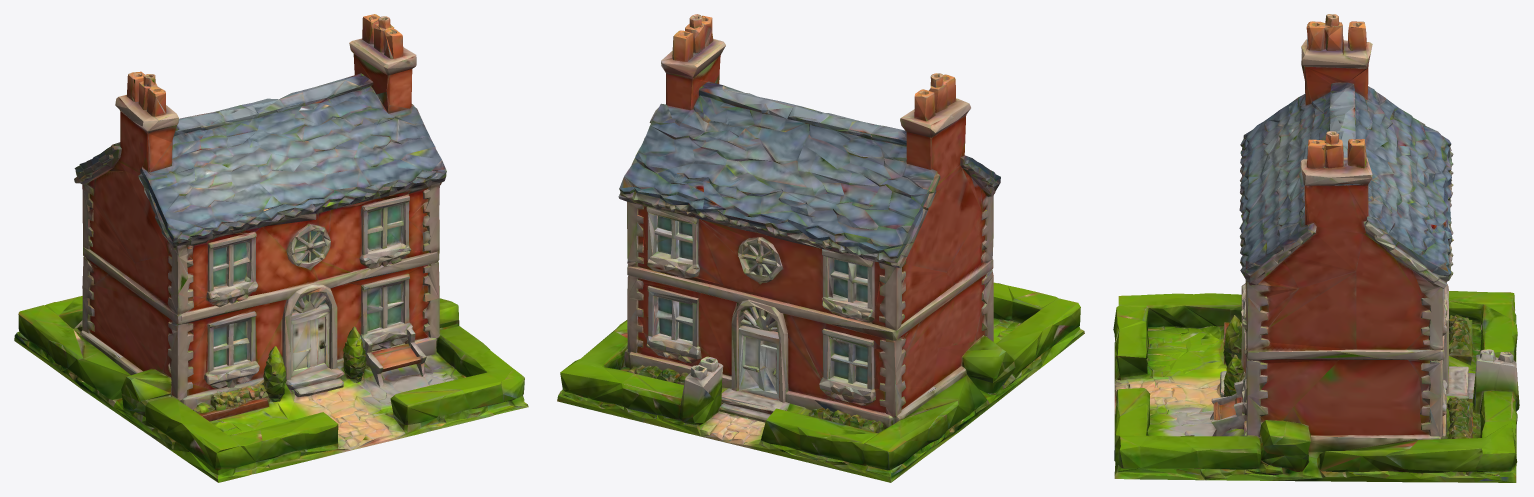
The model's file is town_townhouse_garden_3.glb.
3 renders of one model, left to right at view 1: azimuth 30°, elevation 25°; view 2: azimuth 150°, elevation 25°; view 3: azimuth 270°, elevation 25°, orthographic. The views are drawn at different scales.
Parts seen in each view (by area): view 1: normalize; view 2: normalize; view 3: normalize.
Boxes of the visible parts, bbox=[...] form: normalize: bbox=[14, 14, 528, 482]; normalize: bbox=[557, 14, 1084, 482]; normalize: bbox=[1113, 14, 1519, 482].
Bounding box in the file's own units: 0.9596 × 0.89 × 1.
Materials: 1 (1 with a texture image).
